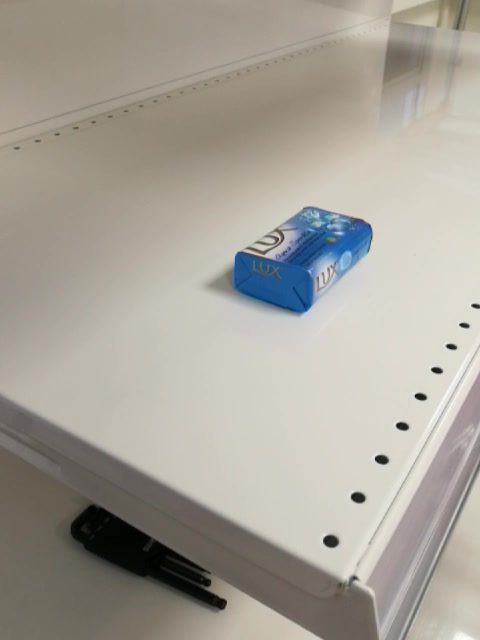soap: (234, 205, 374, 318)
